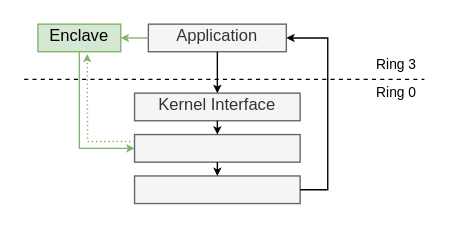
This 450x228 diagram has some shape labels left out. Here are the shapes that lost their labels. From the top down, the box of each, then its label:
(133, 133, 300, 162): LSM
(133, 175, 300, 204): Kernel Operation
